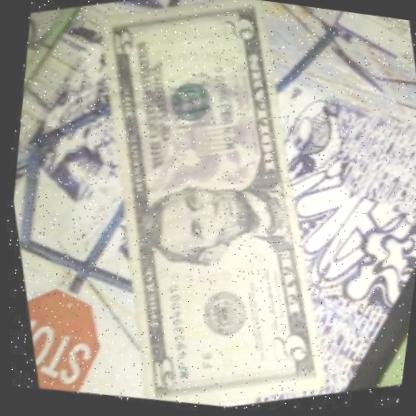five-front: (29, 0, 378, 415)
